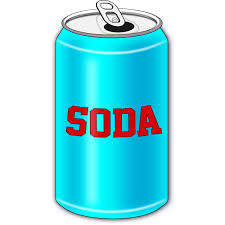can: (55, 1, 169, 217)
